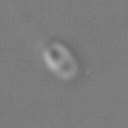normal: (7, 1, 47, 45)
